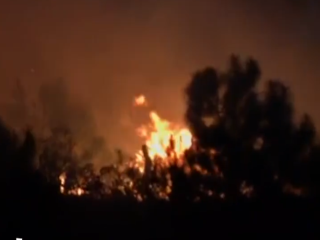smoke: (131, 95, 204, 169)
